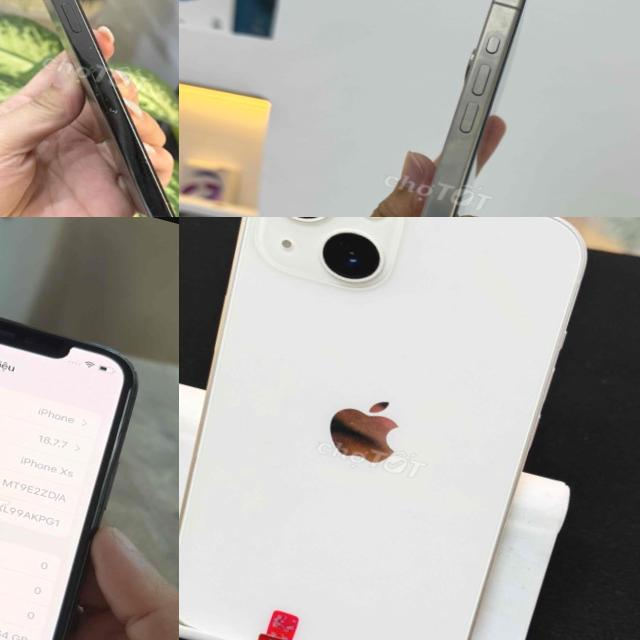gen_12_13: (179, 217, 597, 640), (0, 0, 179, 217)
gen_15: (359, 0, 541, 217)
gen_x_xs: (0, 274, 152, 640)
